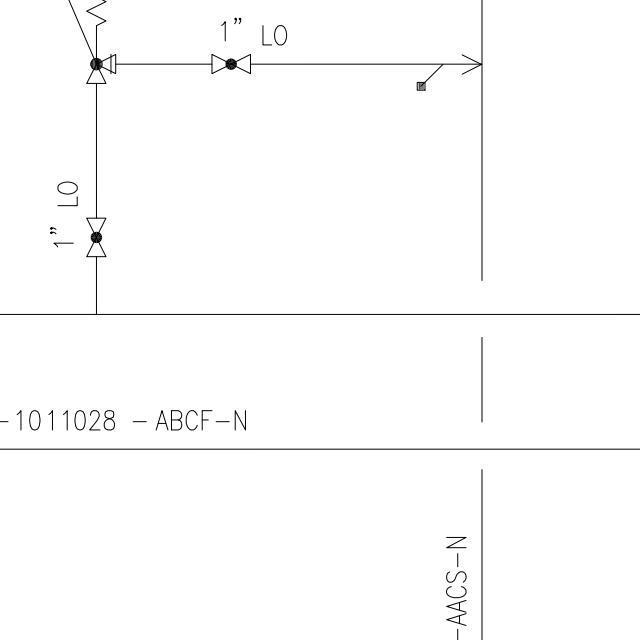BV2: (81, 212, 109, 263), (207, 50, 254, 76)
RPV: (80, 0, 125, 93)
